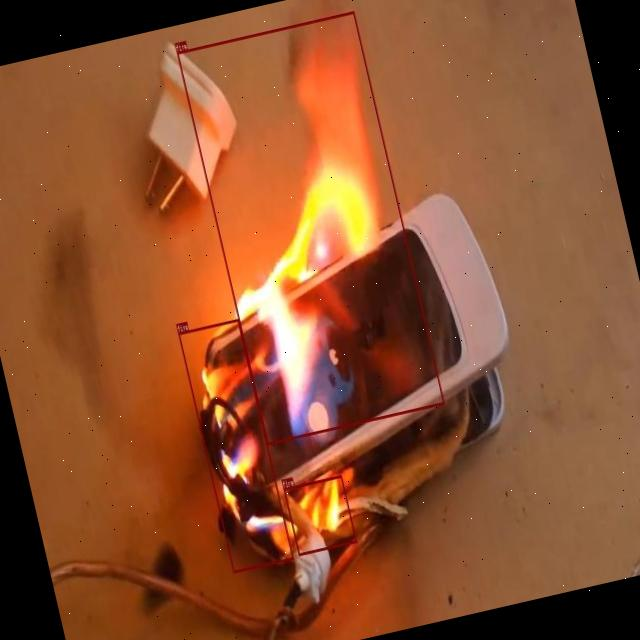fire: (176, 11, 444, 444), (178, 318, 294, 572), (283, 474, 357, 555)
